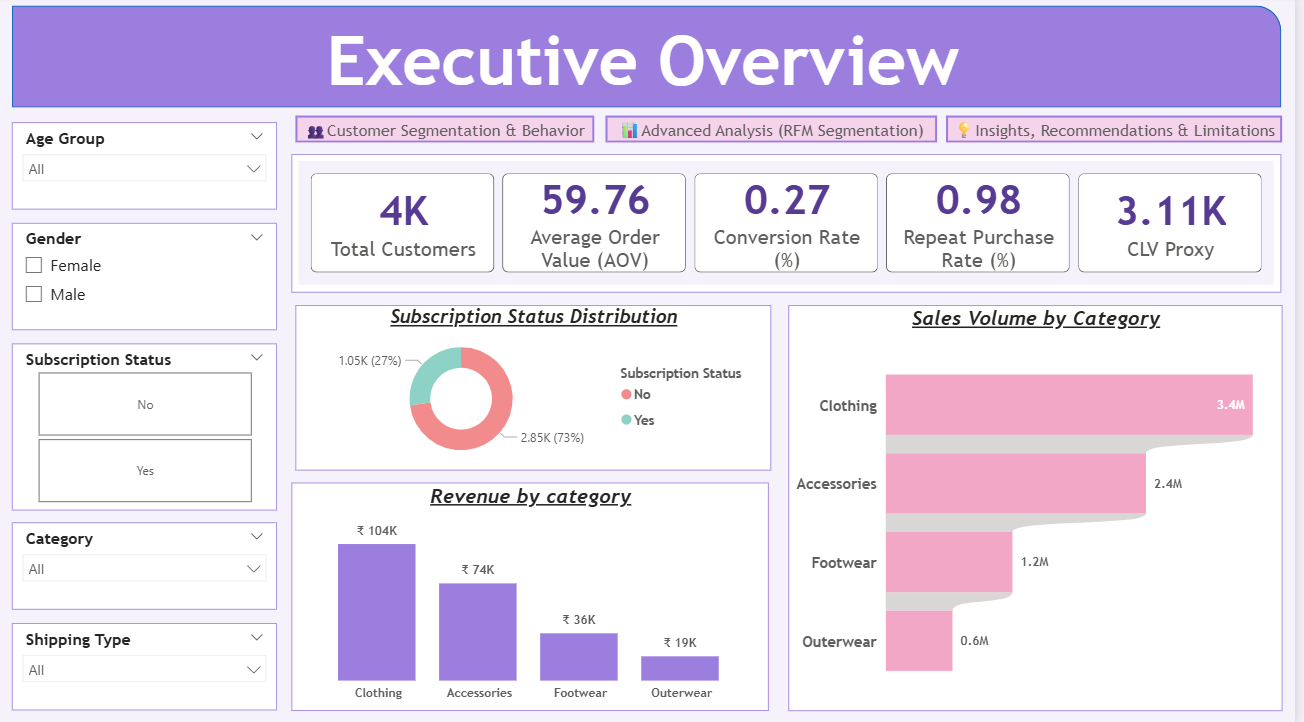

The page's visual inventory and layout, read from the dashboard file:
{"tool":"powerbi","page":{"name":"Executive Overview","canvas":[1280,720],"ordinal":3},"visuals":[{"type":"cardVisual","fields":{"Data":["MeasuresTable.Number of Customers","MeasuresTable.Average Order Value","MeasuresTable.Conversion Rate (%)","MeasuresTable.Repeat Purchase Rate (%)","MeasuresTable.CLV Proxy (CustomerLifetimeValue)"]},"box":[291.7,156.7,975,136.7],"z":0},{"type":"clusteredColumnChart","title":"Revenue by category","fields":{"Category":["public customer.category"],"Y":["Sum(public customer.purchase_amount)"]},"box":[291.7,480,470,225],"z":1000},{"type":"barChart","title":"Sales Volume by Category","fields":{"Category":["public customer.category"],"Y":["Sum(public customer.customer_id)"]},"box":[780,305,486.7,400],"z":2000},{"type":"shape","box":[15.7,10.4,1250.5,100.5],"z":3000},{"type":"donutChart","title":"Subscription Status Distribution","fields":{"Category":["public customer.subscription_status"],"Y":["Count(public customer.customer_id)"]},"box":[295,305,468.3,163.3],"z":4000},{"type":"slicer","fields":{"Values":["public customer.gender"]},"box":[15.7,224.2,261.1,105.7],"z":5000},{"type":"slicer","fields":{"Values":["public customer.age_group"]},"box":[15.7,125.3,261.1,86.2],"z":6000},{"type":"slicer","fields":{"Values":["public customer.category"]},"box":[15.7,519.8,261.1,86.2],"z":7000},{"type":"slicer","fields":{"Values":["public customer.shipping_type"]},"box":[15.7,618.7,261.1,86.2],"z":8000},{"type":"slicer","fields":{"Values":["public customer.subscription_status"]},"box":[15.7,342.6,261.1,164.5],"z":9000},{"type":"actionButton","box":[935.6,118.9,331.1,26.7],"z":10000},{"type":"actionButton","box":[600,118.9,326.7,26.7],"z":11000},{"type":"actionButton","box":[295.6,118.9,294.4,26.7],"z":12000}]}

Visuals, with their boxes in screenshot pixels (x1, y1, x2, y2), scaled from the page's 1280x720 canvas onto the 1304x722 screenshot:
cardVisual - MeasuresTable.Number of Customers x MeasuresTable.Average Order Value: pyautogui.locateOnScreen(297, 157, 1290, 294)
"Revenue by category" clusteredColumnChart: pyautogui.locateOnScreen(297, 481, 776, 707)
"Sales Volume by Category" barChart: pyautogui.locateOnScreen(795, 306, 1290, 707)
shape: pyautogui.locateOnScreen(16, 10, 1290, 111)
"Subscription Status Distribution" donutChart: pyautogui.locateOnScreen(301, 306, 778, 470)
slicer - public customer.gender: pyautogui.locateOnScreen(16, 225, 282, 331)
slicer - public customer.age_group: pyautogui.locateOnScreen(16, 126, 282, 212)
slicer - public customer.category: pyautogui.locateOnScreen(16, 521, 282, 608)
slicer - public customer.shipping_type: pyautogui.locateOnScreen(16, 620, 282, 707)
slicer - public customer.subscription_status: pyautogui.locateOnScreen(16, 344, 282, 509)
actionButton: pyautogui.locateOnScreen(953, 119, 1290, 146)
actionButton: pyautogui.locateOnScreen(611, 119, 944, 146)
actionButton: pyautogui.locateOnScreen(301, 119, 601, 146)
